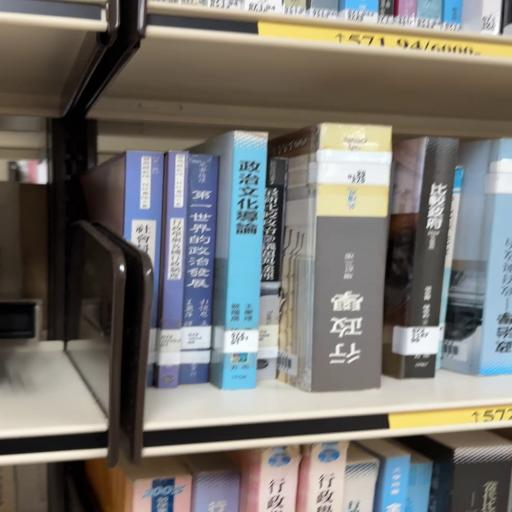reverse: (270, 123, 393, 393)
